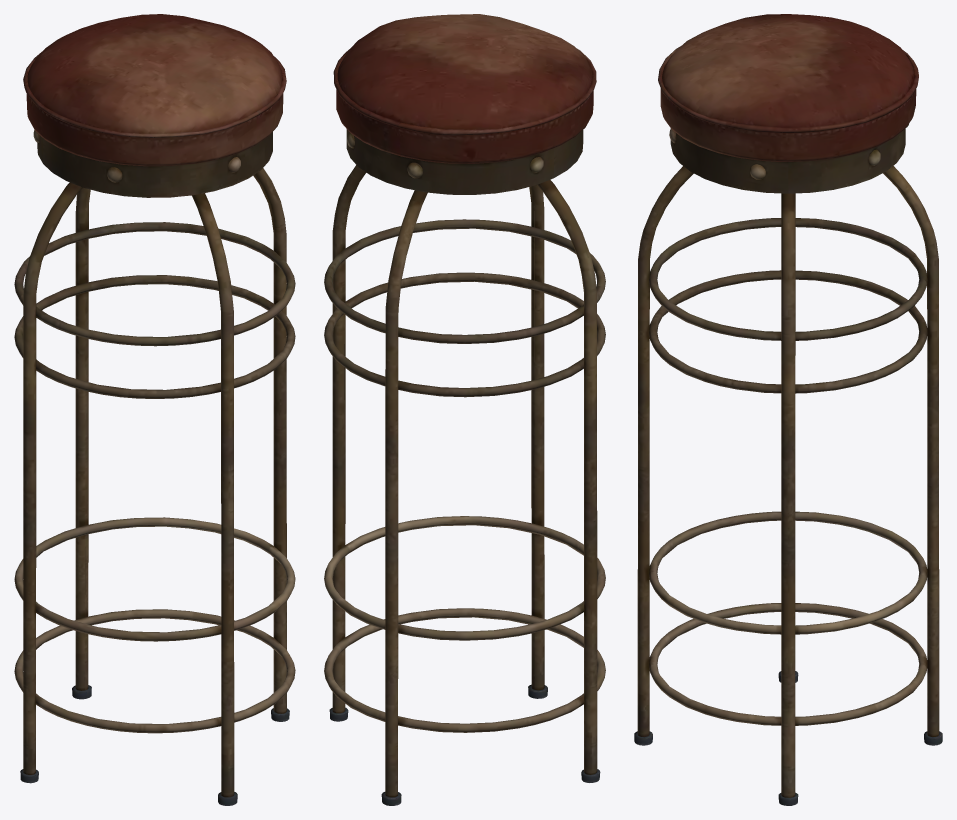
Rendered from sgabello.glb.
The picture shows the model from 3 angles, left to right: view 1: azimuth 30°, elevation 25°; view 2: azimuth 150°, elevation 25°; view 3: azimuth 270°, elevation 25°; orthographic projection.
Visible parts, largest first — view 1: metal_stool_01; view 2: metal_stool_01; view 3: metal_stool_01.
Boxes of the visible parts, x1,y1,x2,y2 form: metal_stool_01: (14, 14, 295, 805); metal_stool_01: (324, 14, 605, 805); metal_stool_01: (634, 14, 942, 805).
Bounding box in the file's own units: 0.352 × 0.8827 × 0.3546.
1 material, 1 textured.
